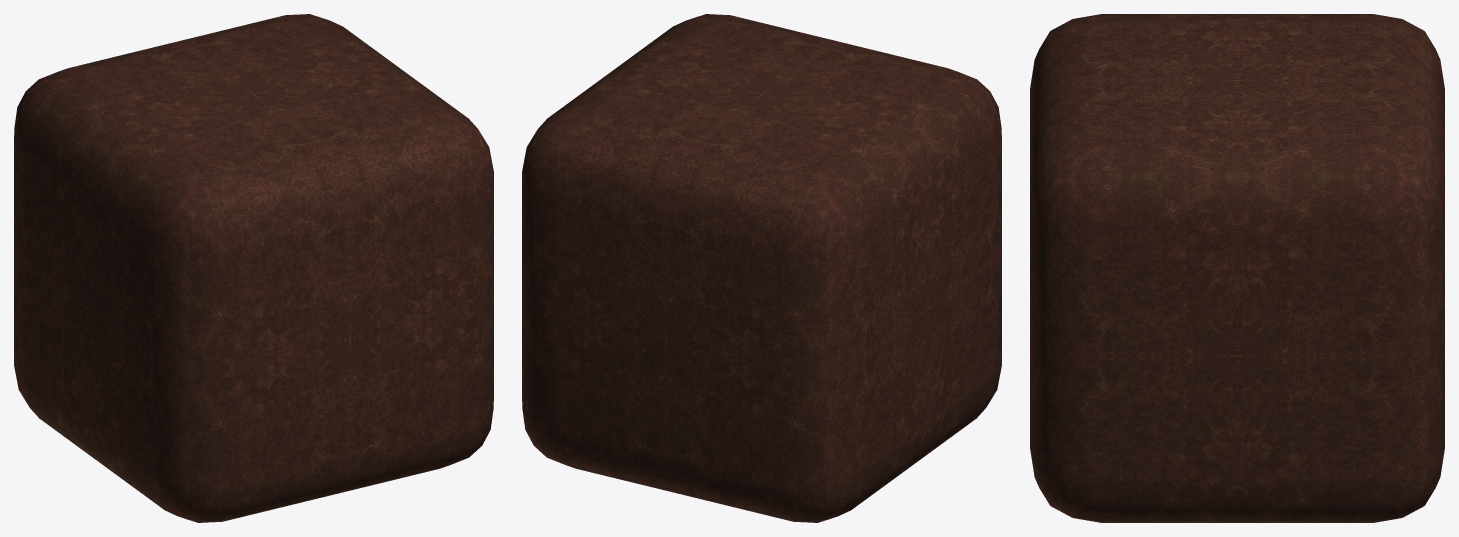
The model's file is Dirt_or_bush_Model_Straight.fbx.
The picture shows the model from 3 angles, left to right: view 1: azimuth 30°, elevation 25°; view 2: azimuth 150°, elevation 25°; view 3: azimuth 270°, elevation 25°; orthographic projection. The views are drawn at different scales.
Visible parts, largest first — view 1: grassGrass; view 2: grassGrass; view 3: grassGrass.
Part boxes in pixels (x1=…): grassGrass: x1=14, y1=14, x2=493, y2=522; grassGrass: x1=522, y1=14, x2=1001, y2=522; grassGrass: x1=1030, y1=14, x2=1444, y2=522.
Bounding box in the file's own units: 10 × 10 × 10.
